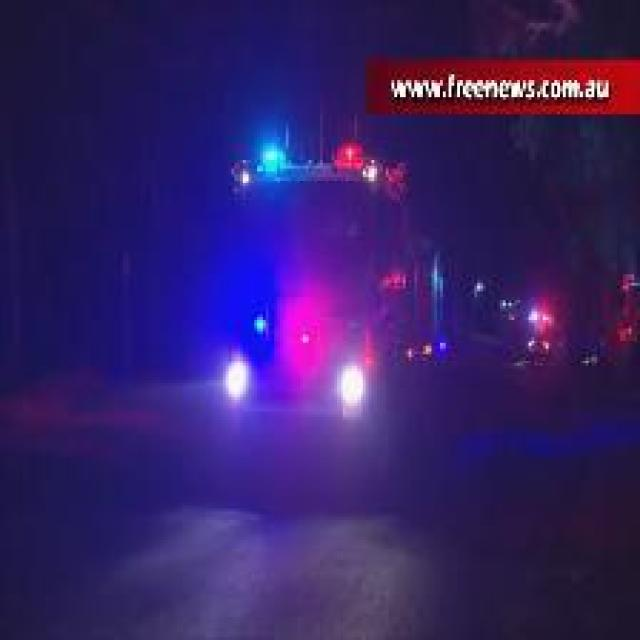other: (306, 350, 372, 412), (506, 292, 566, 348), (284, 279, 318, 367), (221, 342, 248, 405)
